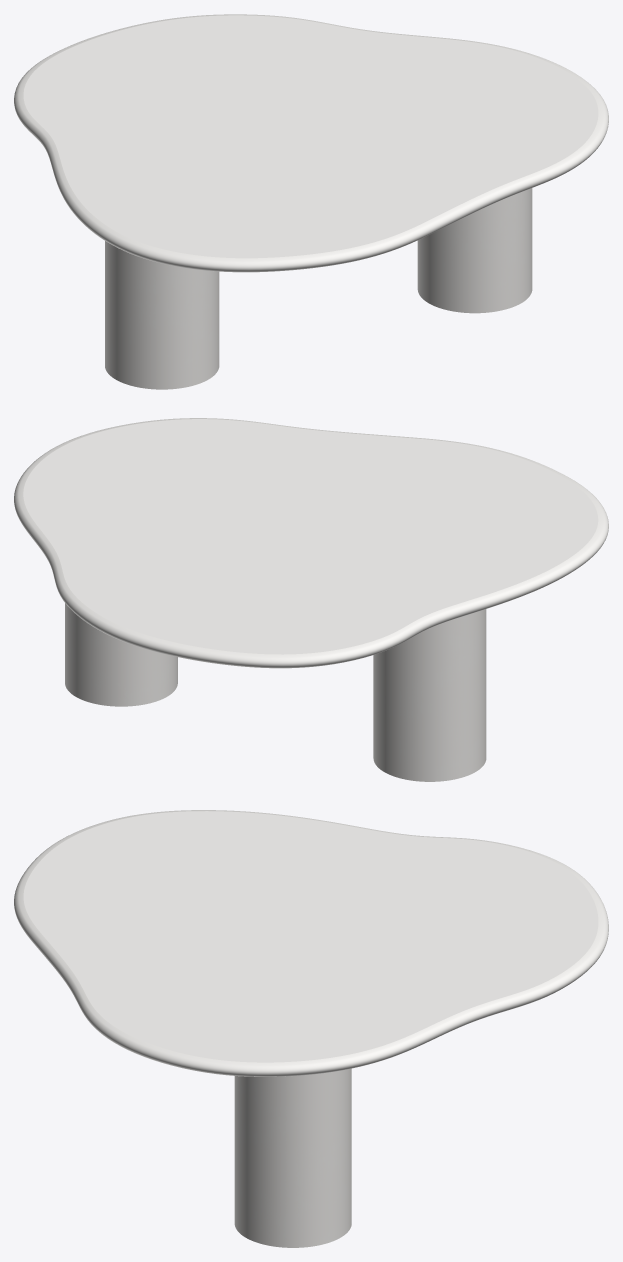
File: purewhite_topone_round_stream.glb
3 renders of one model, top to bottom at view 1: azimuth 30°, elevation 25°; view 2: azimuth 150°, elevation 25°; view 3: azimuth 270°, elevation 25°, orthographic. The views are drawn at different scales.
Visible parts, largest first — view 1: round_topone, stream; view 2: round_topone, stream; view 3: round_topone, stream.
Boxes of the visible parts, x1,y1,x2,y2 form: round_topone: (14,14,608,272); stream: (105,188,532,389); round_topone: (14,418,608,668); stream: (65,603,486,781); round_topone: (14,810,608,1076); stream: (234,1068,351,1247).
Size of the model in its own units: 6.83 by 2.5 by 6.6.
1 material, 1 textured.
